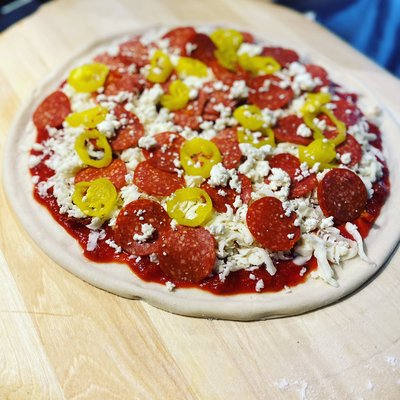curry: (1, 0, 376, 348)
sandwich: (9, 13, 398, 318)
